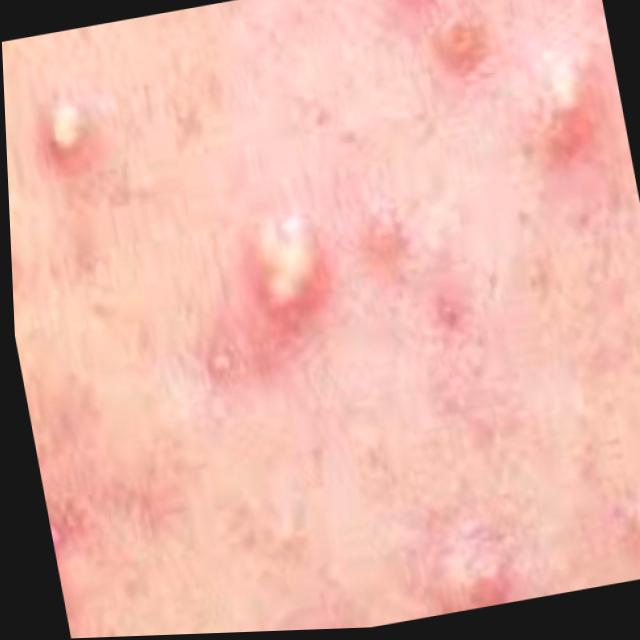pustule: (177, 195, 359, 381), (10, 37, 134, 224)
